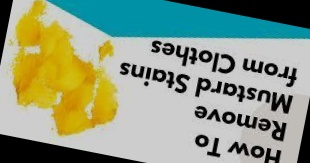mustard: (3, 56, 127, 136), (10, 28, 98, 80), (46, 92, 93, 144), (15, 0, 48, 40), (35, 19, 71, 46), (93, 39, 118, 67)
